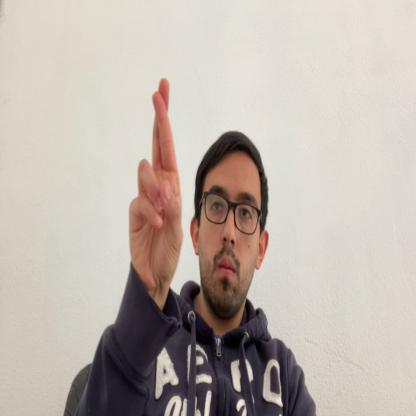R: (129, 76, 183, 287)
